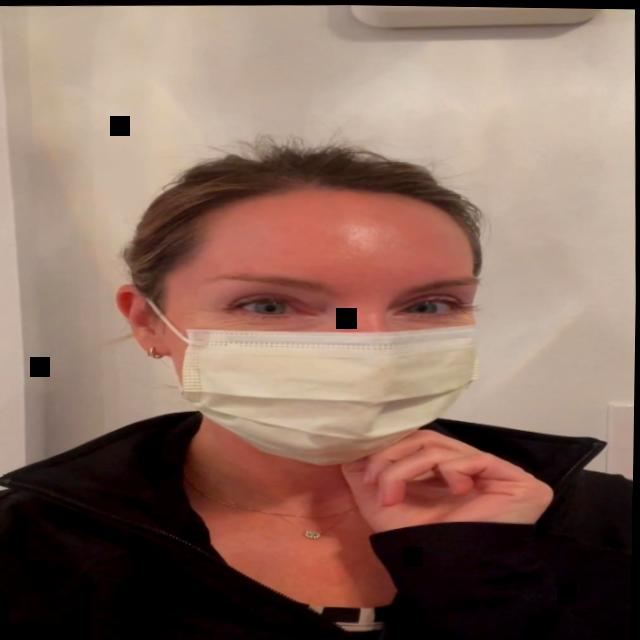Mask: (146, 184, 483, 466)
